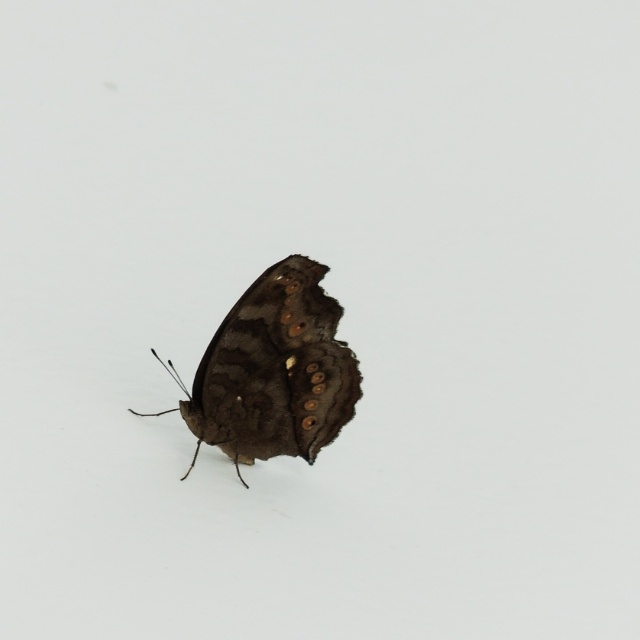Butterfly: (112, 249, 359, 492)
